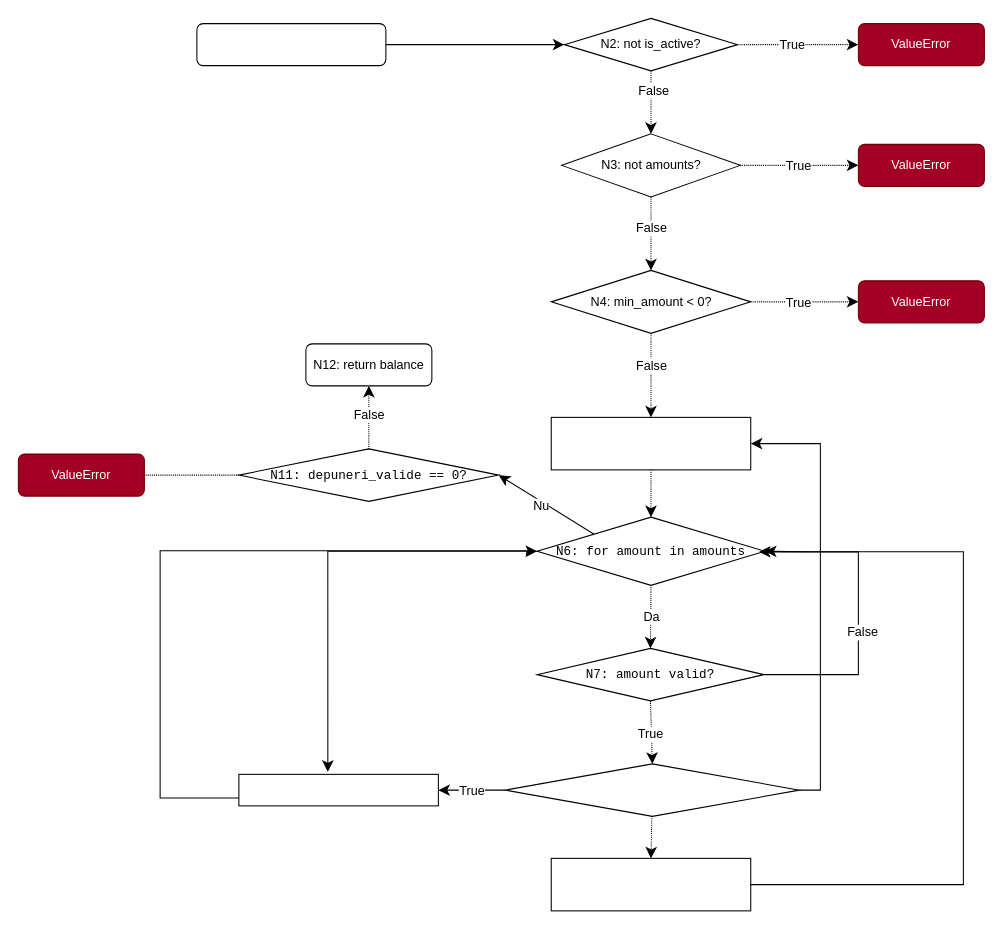
Some shapes in this 1003 by 929 pixel diagram are drawn without their labels. Each missing label, with the centre of its shape:
N10: deposit + depuneri += 1: point (650, 884)
N1: intrare: point (291, 44)
N5: depuneri_valide = 0: point (650, 443)
N8: amount > max_amount?: point (651, 789)
N9: pass: point (338, 789)
